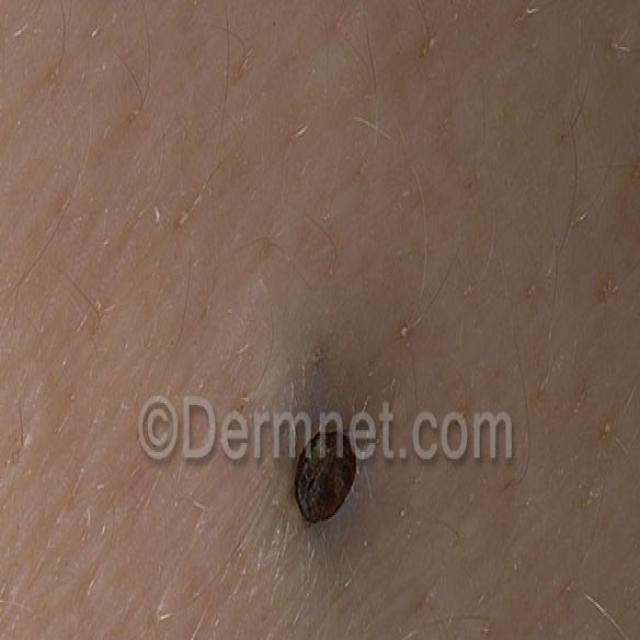Acne: (251, 326, 403, 592)
